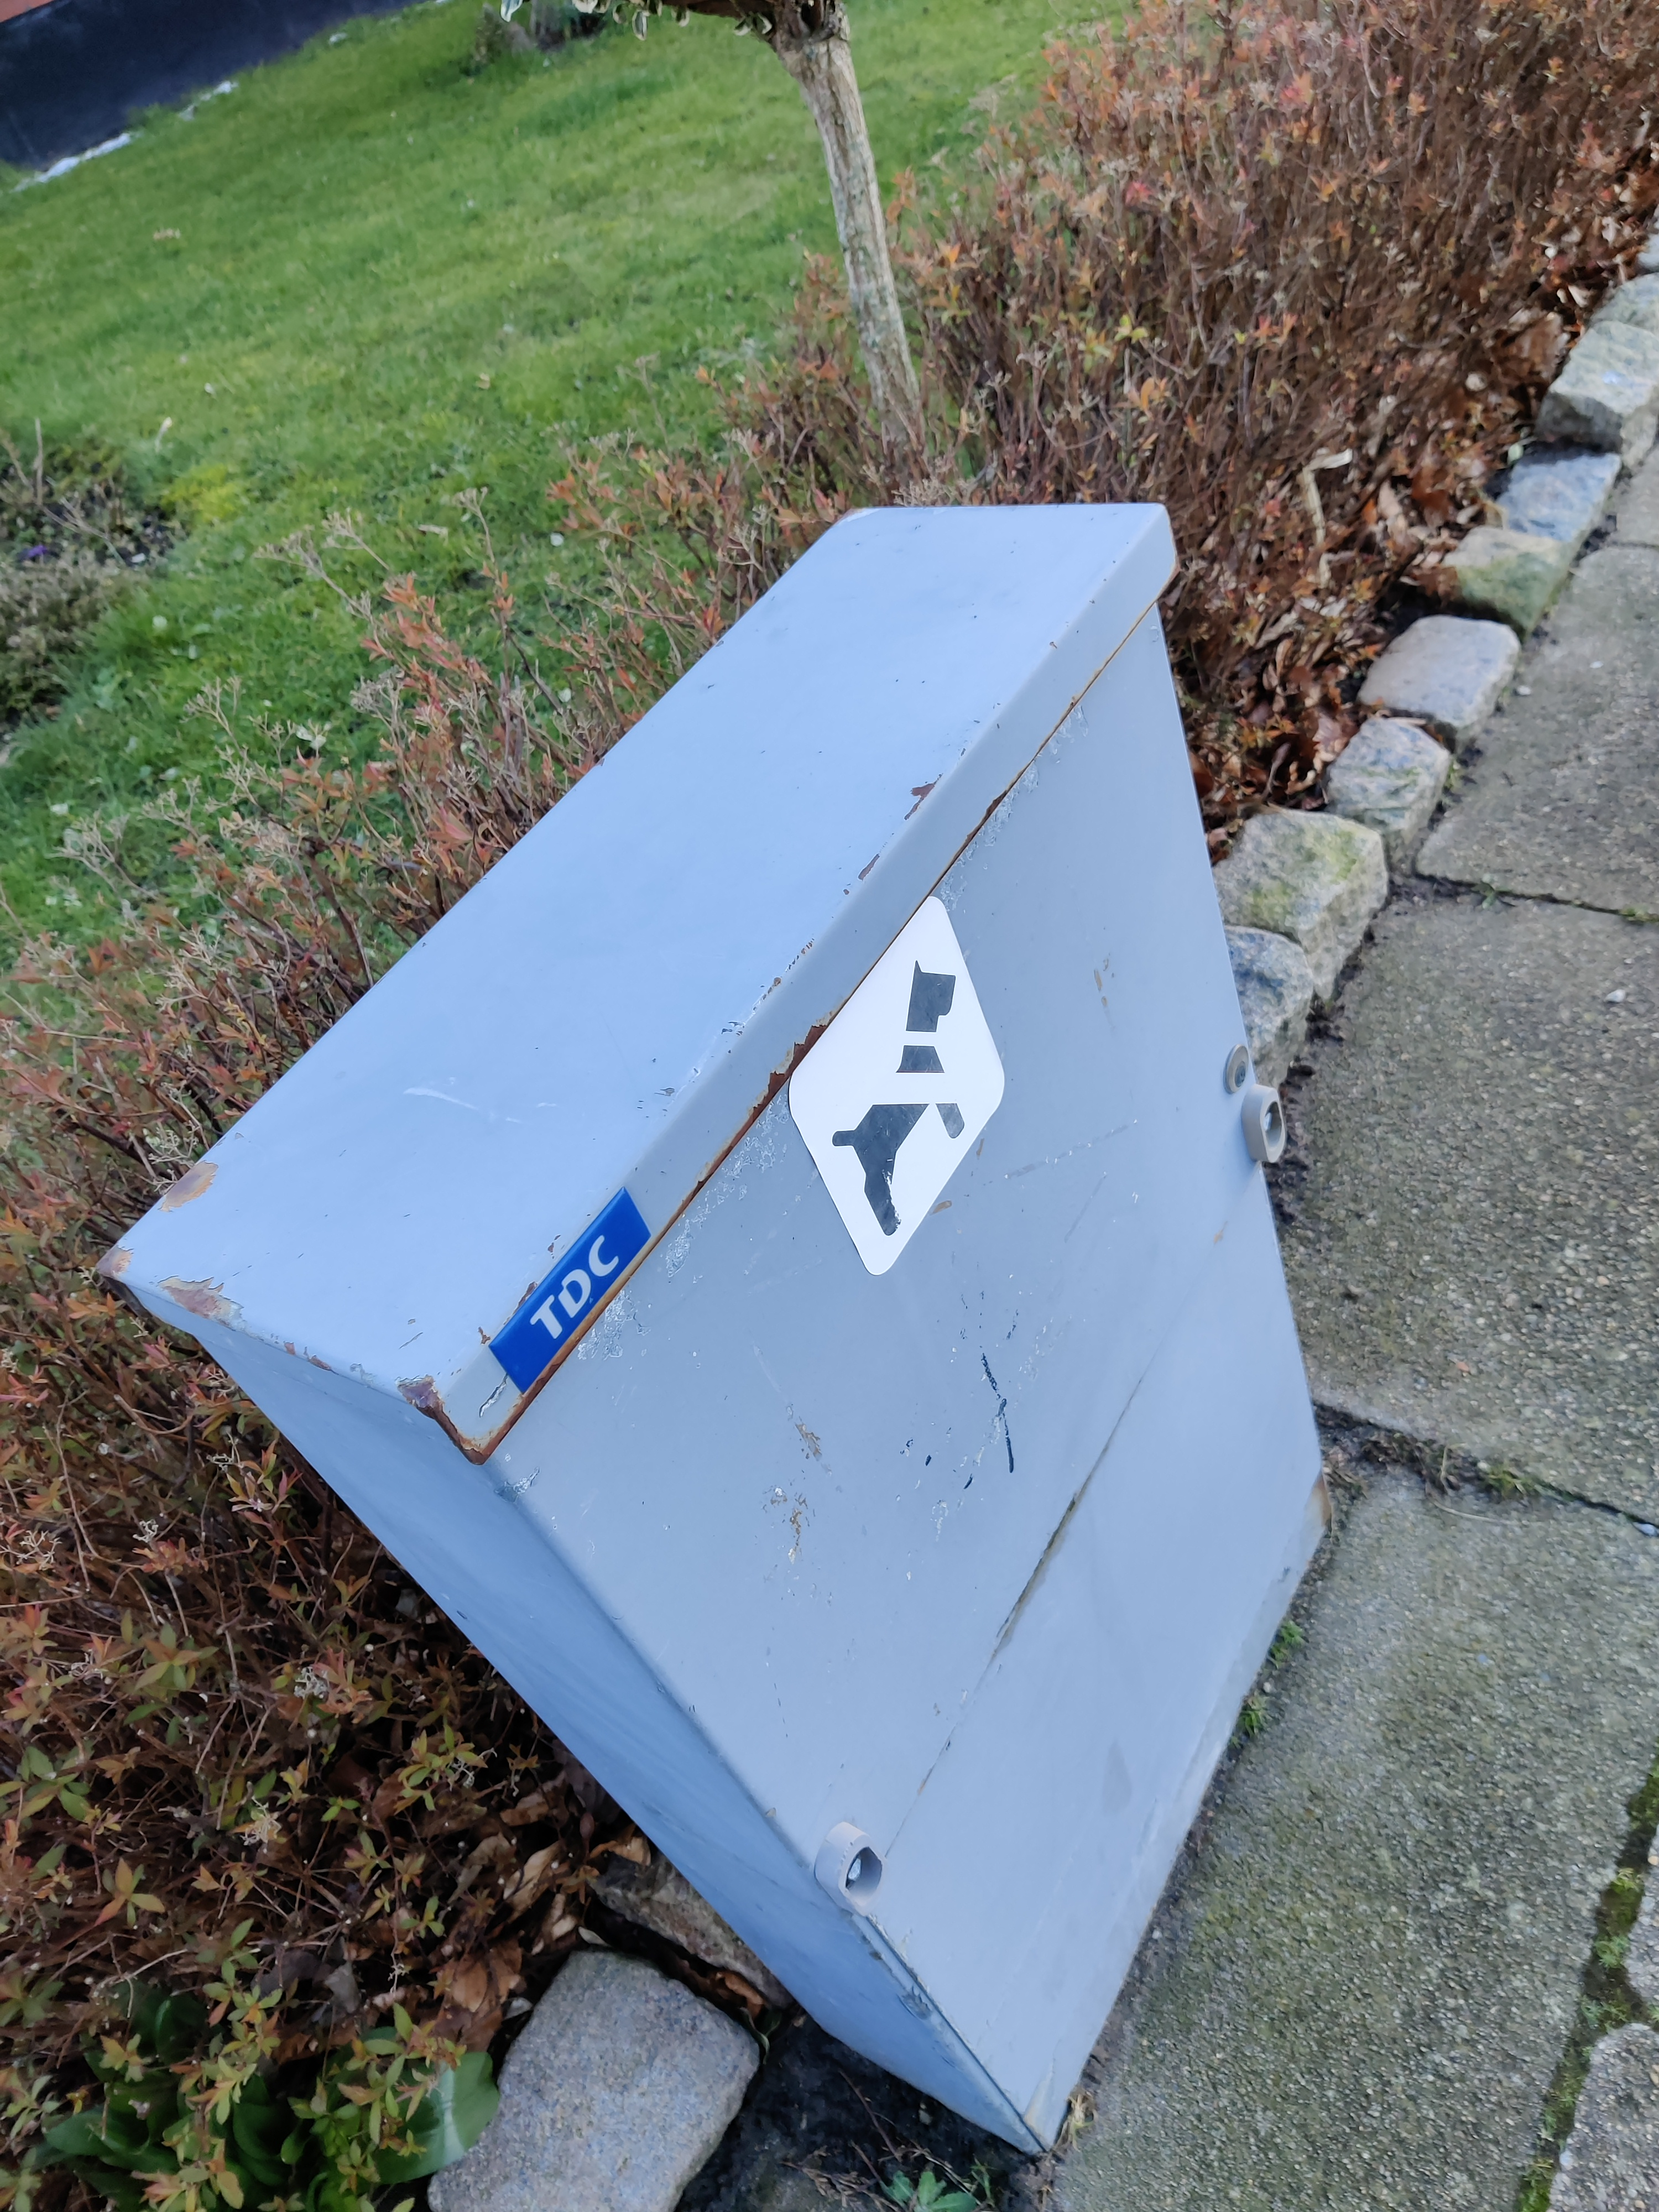Dog: (824, 954, 979, 1238)
